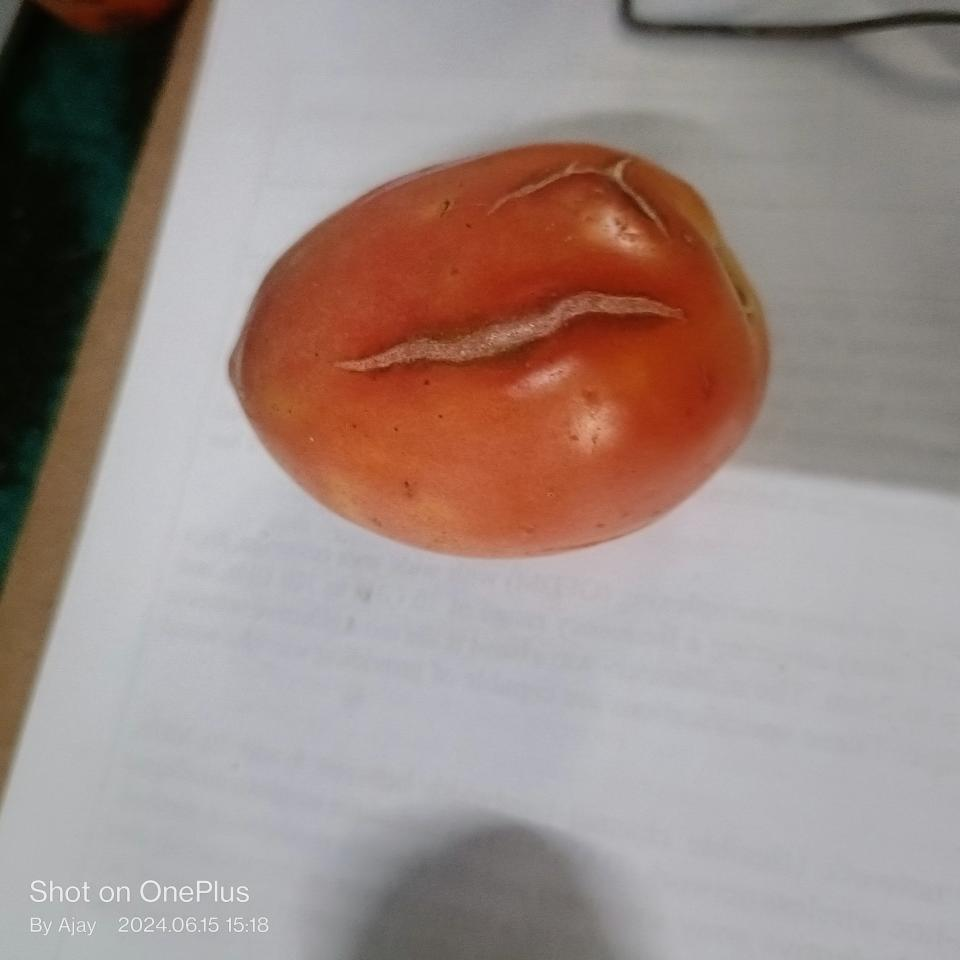Cracking: (343, 290, 695, 369), (488, 156, 664, 232)
